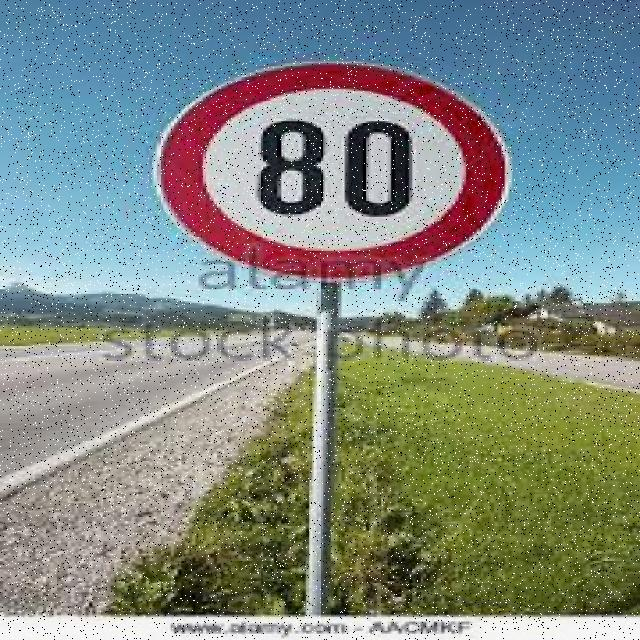Ograniczenie predkosci do 80: (174, 82, 494, 260)
